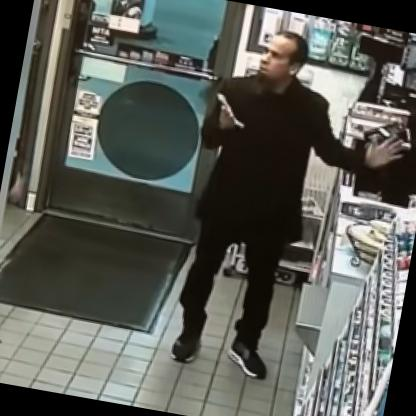Human Body: (155, 12, 415, 407)
